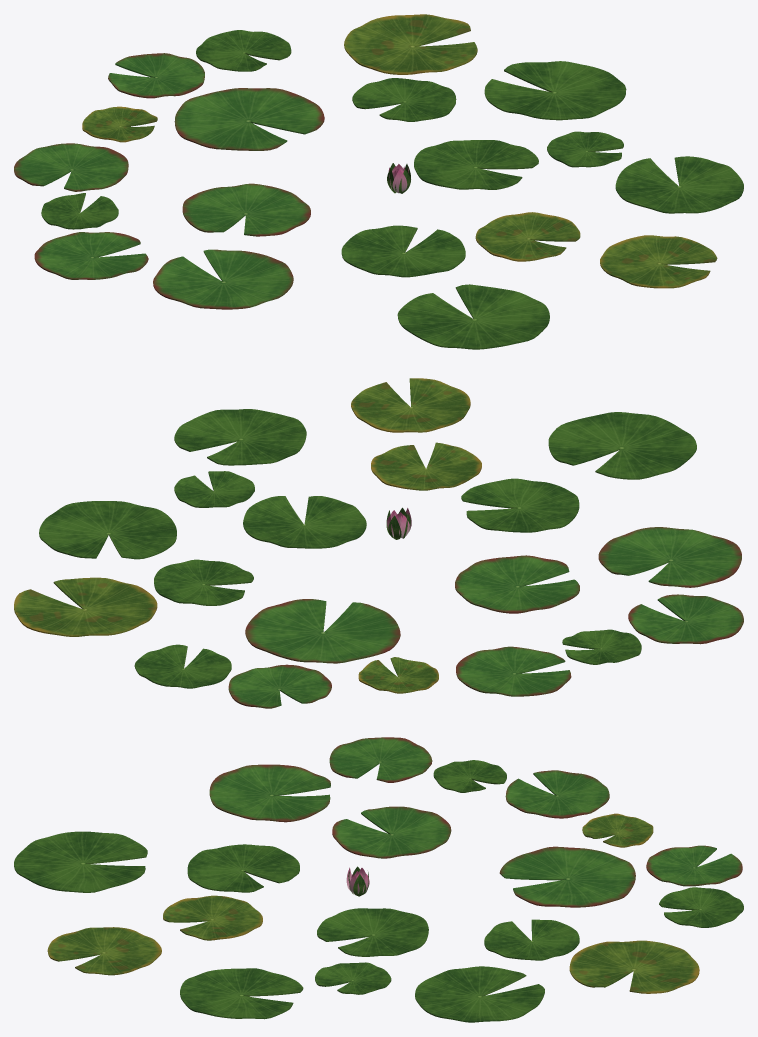
Rendered from lily_pads_c.gltf.
3 renders of one model, top to bottom at view 1: azimuth 30°, elevation 25°; view 2: azimuth 150°, elevation 25°; view 3: azimuth 270°, elevation 25°, orthographic. The views are drawn at different scales.
Visible parts, largest first — view 1: lily_pads_c; view 2: lily_pads_c; view 3: lily_pads_c.
Part boxes in pixels (x1=…): lily_pads_c: x1=14, y1=14, x2=743, y2=349; lily_pads_c: x1=14, y1=378, x2=743, y2=708; lily_pads_c: x1=14, y1=737, x2=743, y2=1022.
Bounding box in the file's own units: 1.62 × 0.0758 × 1.75.
1 material, 1 textured.
